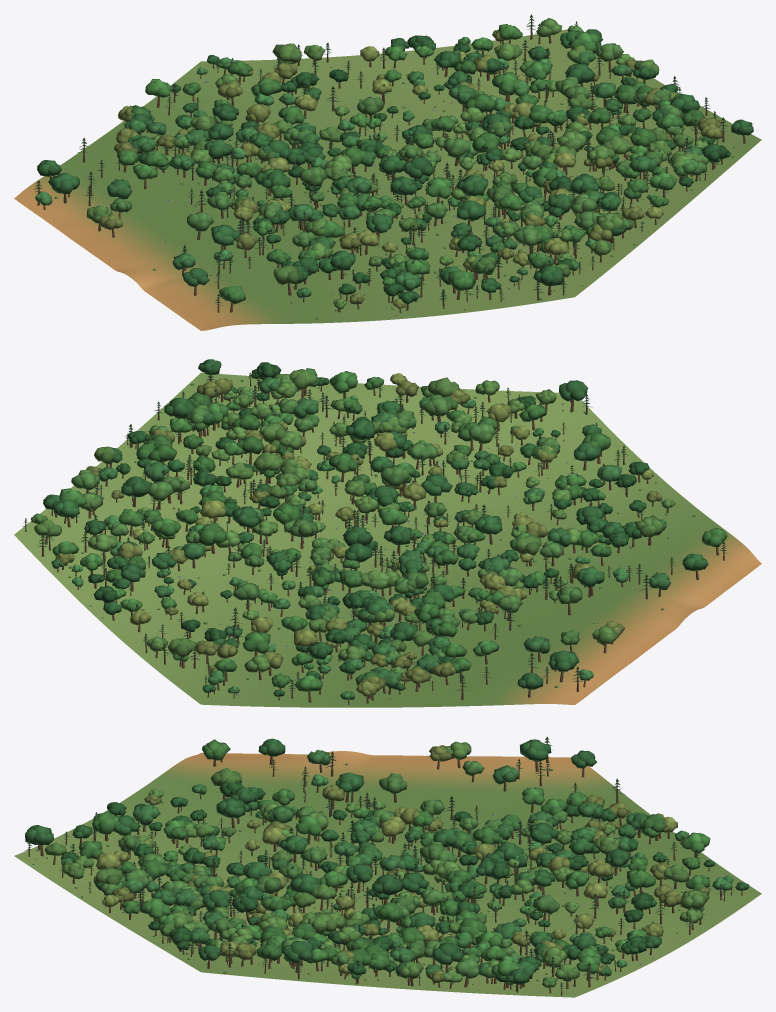
The picture shows the model from 3 angles, top to bottom: view 1: azimuth 30°, elevation 25°; view 2: azimuth 150°, elevation 25°; view 3: azimuth 270°, elevation 25°; orthographic projection.
Visible parts, largest first — view 1: broadleaf_canopy, terrain, trunks, conifer_canopy; view 2: broadleaf_canopy, terrain, trunks, conifer_canopy; view 3: broadleaf_canopy, terrain, trunks, conifer_canopy.
Part boxes in pixels (left/top/right/bottom): broadleaf_canopy: left=35, top=18, right=753, bottom=309; terrain: left=14, top=29, right=761, bottom=330; trunks: left=37, top=15, right=745, bottom=313; conifer_canopy: left=34, top=14, right=728, bottom=305; broadleaf_canopy: left=31, top=359, right=727, bottom=699; terrain: left=14, top=372, right=761, bottom=707; trunks: left=25, top=368, right=724, bottom=704; conifer_canopy: left=22, top=366, right=728, bottom=691; broadleaf_canopy: left=25, top=738, right=749, bottom=987; terrain: left=14, top=751, right=761, bottom=997; trunks: left=28, top=738, right=742, bottom=995; conifer_canopy: left=24, top=736, right=732, bottom=988.
Bounding box in the file's own units: 4330 × 620 × 5000.
